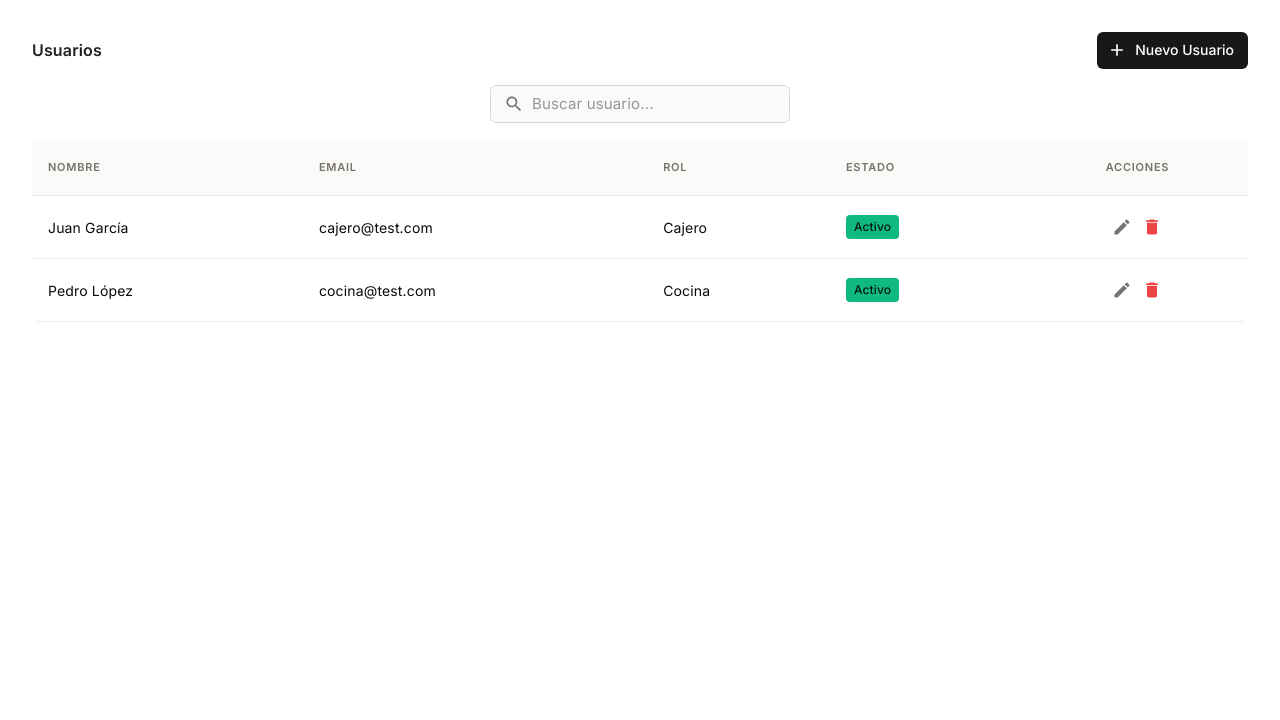
Test: UserList › opens delete confirmation on delete icon click
Expected: the text "Juan García" is shown, [32,196,303,259]
Click the button named "eliminar juan garcía" at x=1152, y=227, box [1138,212,1168,242]
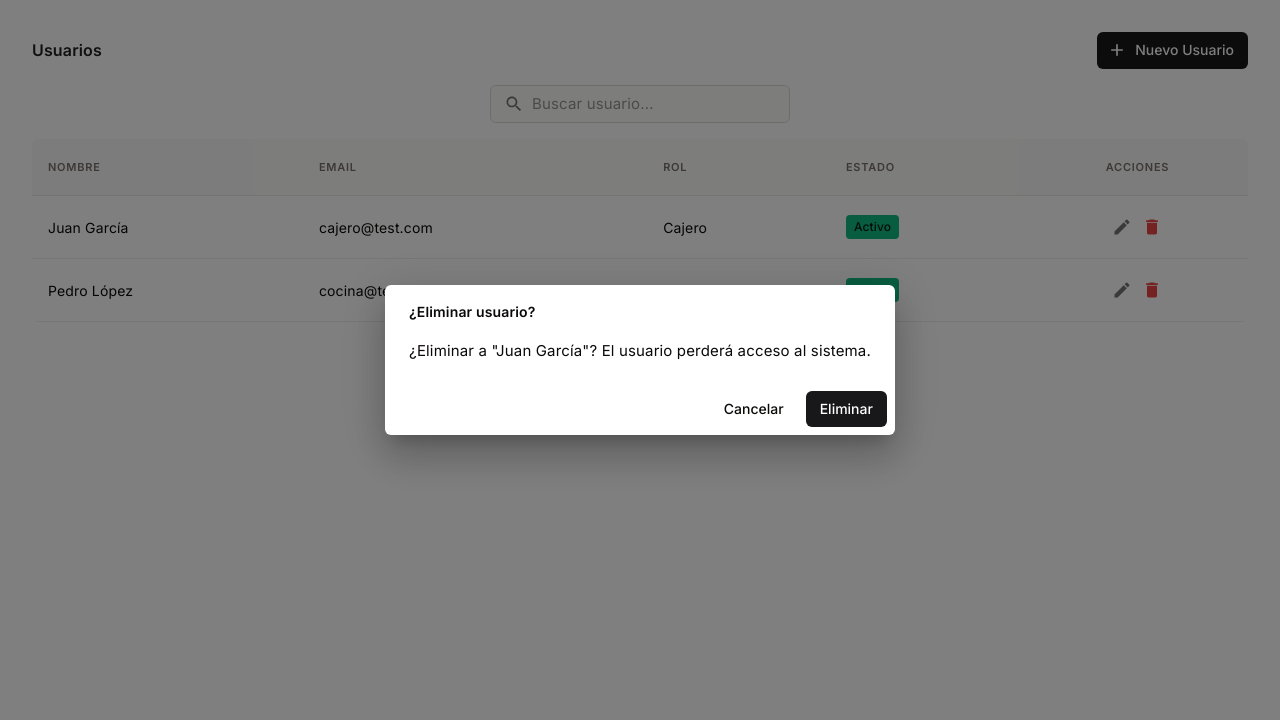
Result: the heading "¿Eliminar usuario?" is shown at [409,302,536,320]
Result: the text "perderá acceso al sistema" is shown at [582,341,871,360]
